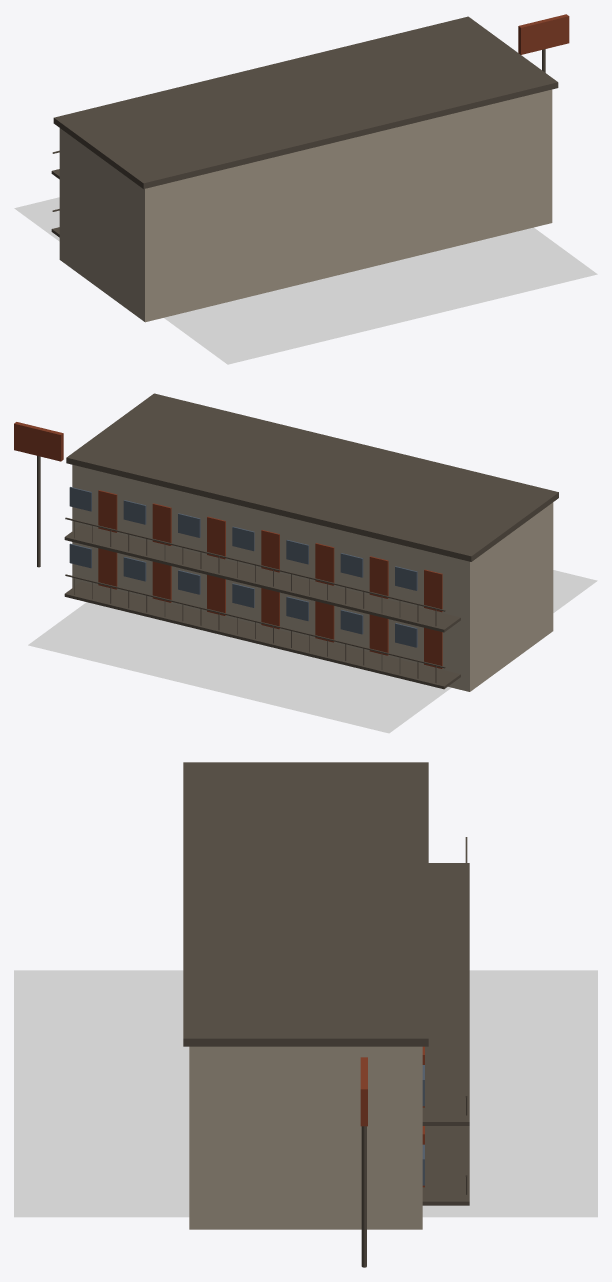
Rendered from motel.glb.
3 views of the same model, one above another, from view 1: azimuth 30°, elevation 25°; view 2: azimuth 150°, elevation 25°; view 3: azimuth 270°, elevation 25° (orthographic). The views are drawn at different scales.
Visible parts, largest first — view 1: Cube, Cube.001, Plane, Cube.034; view 2: Cube.001, Cube, Plane, Cube.002, Cube.018, Cube.034, Cube.019, Cube.003, Cube.030, Cube.032, Cube.022, Cube.024 (+24 smaller); view 3: Plane, Cube.001, Cube, Cube.018, Cube.002, Cylinder.042, Cube.019.
Part boxes in pixels (box(x1,y1,x2,y2)): Cube: box(59, 89, 552, 322); Cube.001: box(53, 16, 558, 188); Plane: box(14, 197, 597, 364); Cube.034: box(518, 14, 569, 54); Cube.001: box(66, 393, 558, 561); Cube: box(72, 465, 553, 691); Plane: box(28, 570, 597, 733); Cube.002: box(64, 581, 460, 689); Cube.018: box(64, 525, 460, 632); Cube.034: box(14, 422, 63, 461); Cube.019: box(65, 517, 445, 611); Cube.003: box(65, 574, 445, 668); Cube.030: box(152, 503, 171, 545); Cube.032: box(98, 490, 117, 532); Cube.022: box(369, 556, 388, 598); Cube.024: box(315, 543, 334, 585); Plane: box(14, 970, 597, 1217); Cube.001: box(183, 762, 428, 1046); Cube: box(189, 1046, 422, 1229); Cube.018: box(422, 863, 469, 1125); Cube.002: box(422, 1126, 469, 1205); Cylinder.042: box(361, 1126, 366, 1267); Cube.019: box(465, 837, 467, 1097).
Size of the model in its own units: 26.5 by 7.3 by 20.
